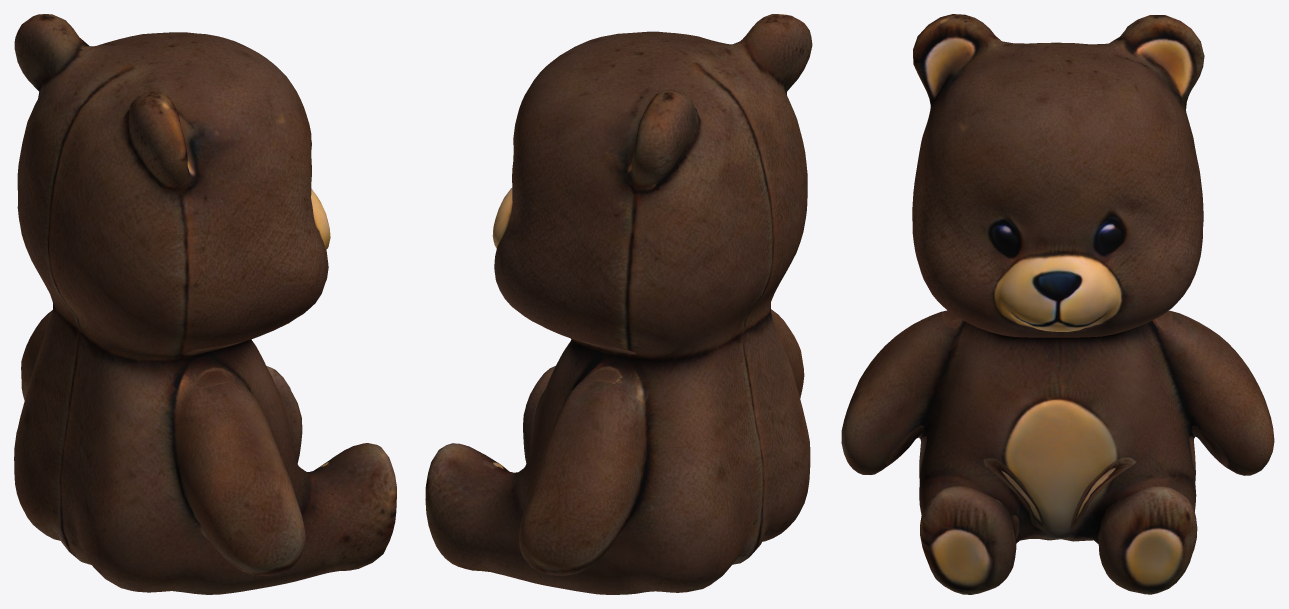
The model's file is Bear_Doll.fbx.
3 renders of one model, left to right at view 1: azimuth 30°, elevation 25°; view 2: azimuth 150°, elevation 25°; view 3: azimuth 270°, elevation 25°, orthographic. The views are drawn at different scales.
Visible parts, largest first — view 1: mesh; view 2: mesh; view 3: mesh.
Part boxes in pixels (x1,y1,x2,y2): mesh: (14,14,396,594); mesh: (425,14,812,594); mesh: (841,14,1274,594).
Bounding box in the file's own units: 0.5702 × 0.9985 × 0.8055.
